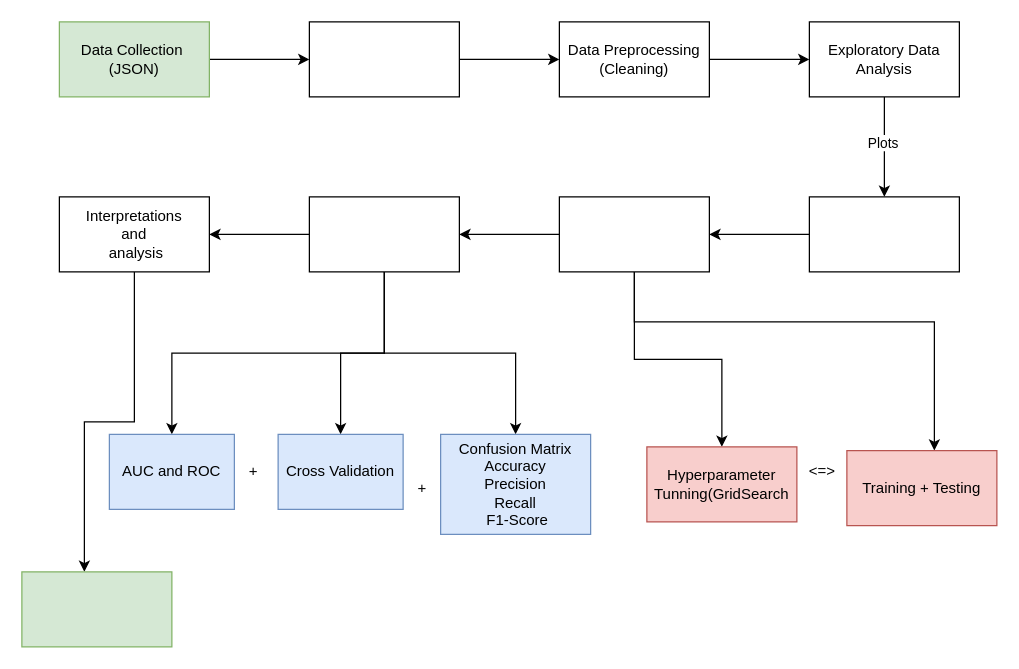
This 1019x669 diagram has some shape labels left out. Each missing label, with the centre of its shape:
Conclusion: [96,609]
Data Enriching (Spotify API): [383,59]
Feature Selection: [883,234]
Model Evaluation: [383,234]
Model Selection (Random Forest): [633,234]
